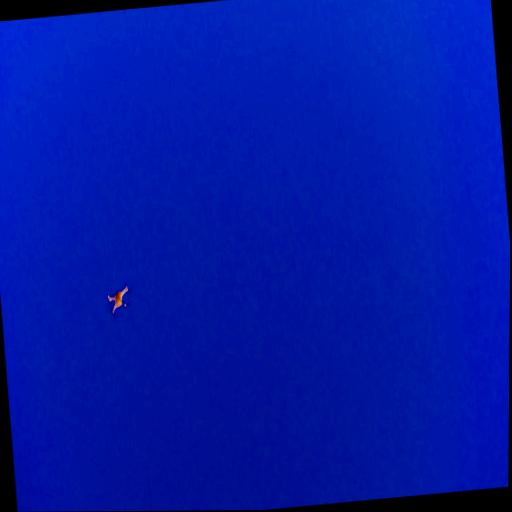drones: (102, 280, 133, 320)
